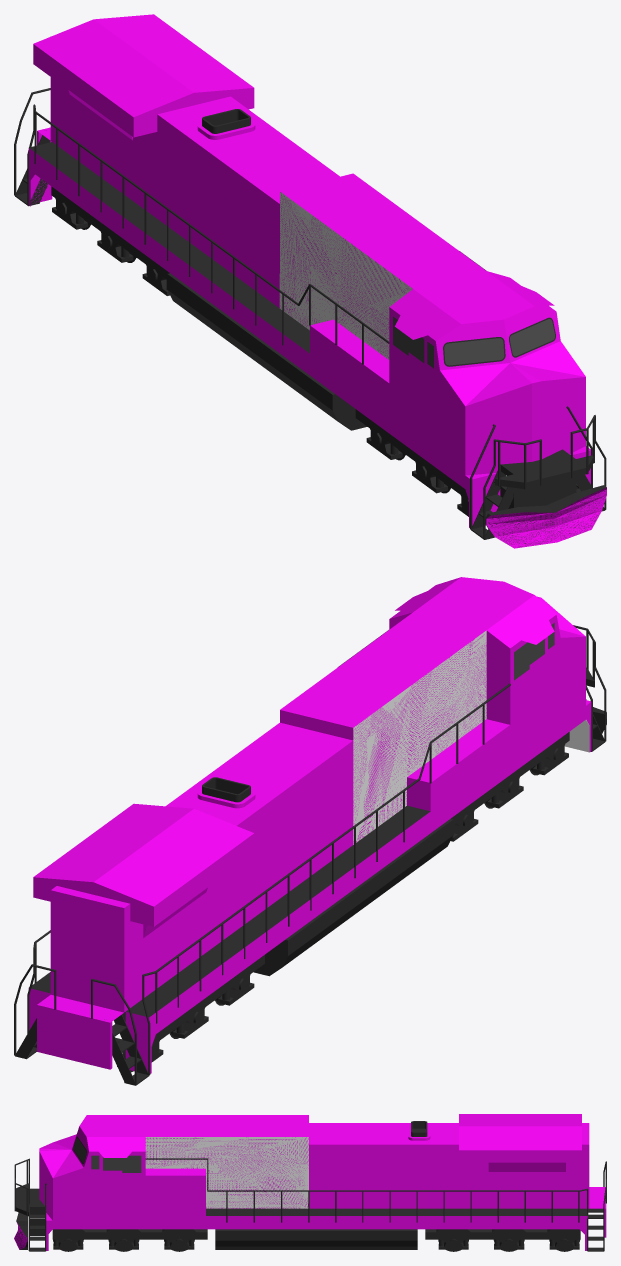
File: dash9-v5.dae
The picture shows the model from 3 angles, top to bottom: view 1: azimuth 30°, elevation 25°; view 2: azimuth 150°, elevation 25°; view 3: azimuth 270°, elevation 25°; orthographic projection. The views are drawn at different scales.
Visible parts, largest first — view 1: half_body (×6), body (×3), group_5, bogie_mechanism (×2), box_right, group_6 (×2), group_2 (×2), stairs, group_4; view 2: half_body (×4), body, group_5, box_right, bogie_mechanism (×2), stairs, group_4; view 3: half_body (×5), body (×2), bogie_mechanism (×2), group_5, box_left, group_4, group_2 (×2), stairs (×2), group_0.
Part boxes in pixels (x1=…): half_body (×6): x1=28, y1=14, x2=590, y2=527; body (×3): x1=279, y1=192, x2=585, y2=467; group_5: x1=167, y1=273, x2=367, y2=430; bogie_mechanism (×2): x1=51, y1=186, x2=468, y2=516; box_right: x1=310, y1=319, x2=389, y2=411; group_6 (×2): x1=486, y1=487, x2=606, y2=548; group_2 (×2): x1=495, y1=449, x2=593, y2=488; stairs: x1=471, y1=464, x2=513, y2=539; group_4: x1=27, y1=104, x2=256, y2=273; half_body (×4): x1=28, y1=577, x2=591, y2=1073; body: x1=353, y1=630, x2=486, y2=844; group_5: x1=253, y1=818, x2=453, y2=976; box_right: x1=407, y1=719, x2=510, y2=811; bogie_mechanism (×2): x1=151, y1=732, x2=569, y2=1062; stairs: x1=104, y1=1014, x2=149, y2=1085; group_4: x1=142, y1=809, x2=377, y2=1075; half_body (×5): x1=30, y1=1114, x2=606, y2=1250; body (×2): x1=39, y1=1137, x2=308, y2=1215; bogie_mechanism (×2): x1=52, y1=1229, x2=580, y2=1249; group_5: x1=215, y1=1229, x2=417, y2=1249; box_left: x1=145, y1=1168, x2=205, y2=1215; group_4: x1=309, y1=1188, x2=588, y2=1251; group_2 (×2): x1=15, y1=1183, x2=44, y2=1216; stairs (×2): x1=29, y1=1214, x2=603, y2=1251; group_0: x1=145, y1=1158, x2=308, y2=1191.
Size of the model in its own units: 144 by 854 by 187.
